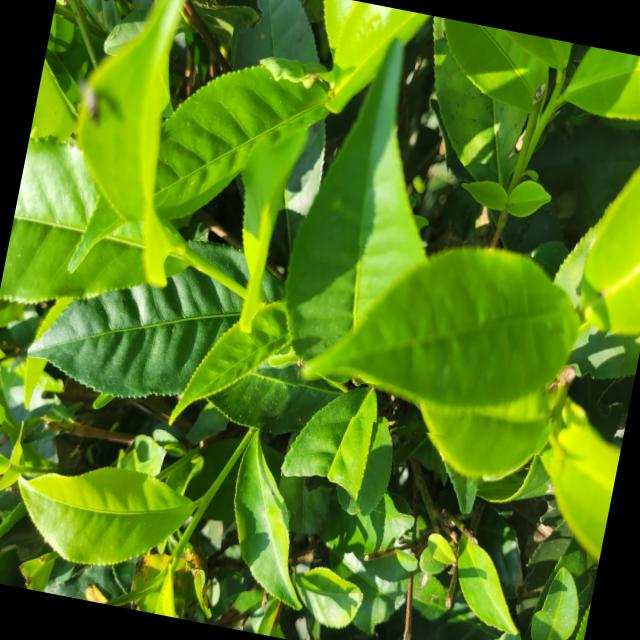Catagory A(1-2 days): (290, 208, 604, 460)
